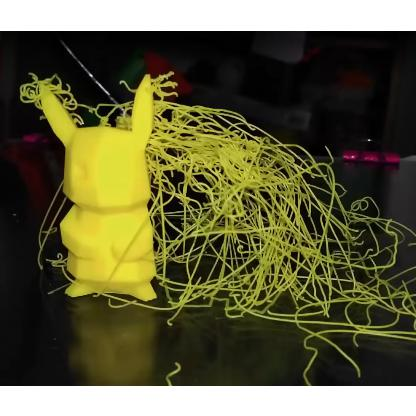fail: (152, 76, 412, 366)
